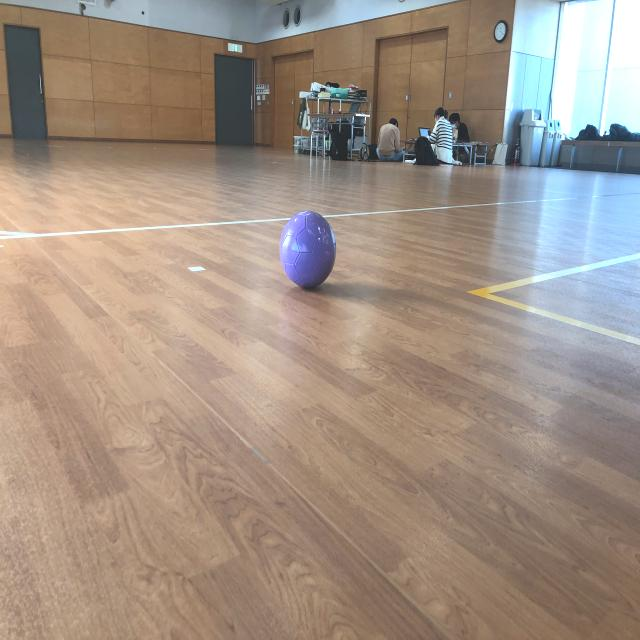purple_ball: (282, 212, 336, 286)
